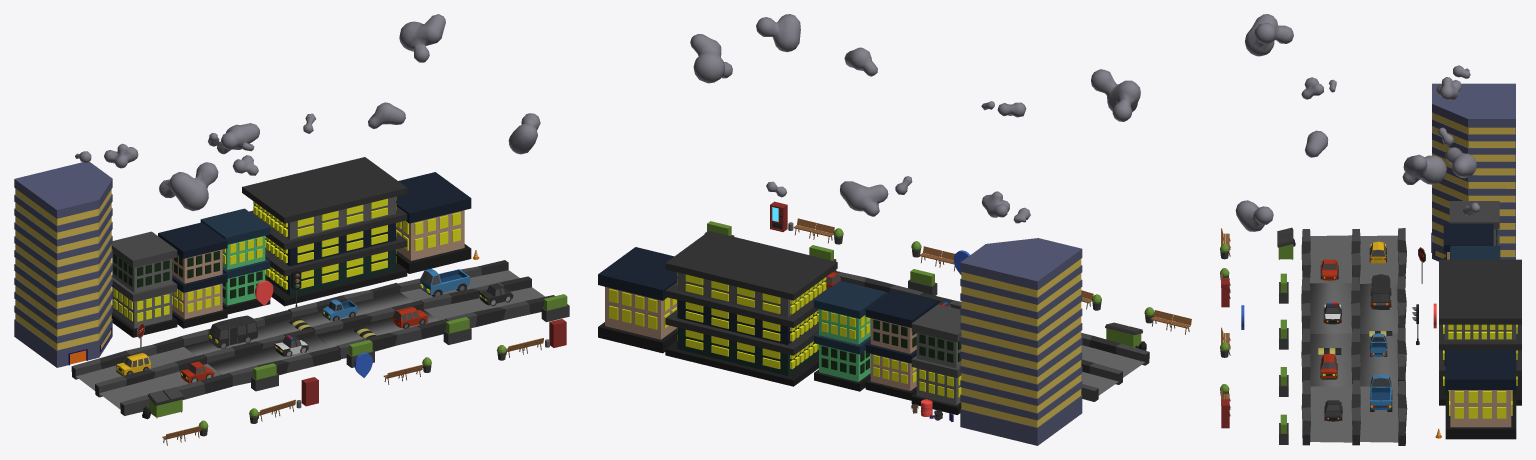
The model's file is PopupBook_Ch02_Objects.fbx.
3 renders of one model, left to right at view 1: azimuth 30°, elevation 25°; view 2: azimuth 150°, elevation 25°; view 3: azimuth 270°, elevation 25°, orthographic. The views are drawn at different scales.
Parts seen in each view (by area): view 1: Road_tar.003, Building 86, Building15, NUVOLE.001, Building4, Building7, Building9, Building10, Bus_Black.001, Lorry_Blue.001, Dumpster, Plant.006 (+5 smaller); view 2: Building 86, Building15, NUVOLE.001, Building4, Building10, Building9, Building7, Road_tar.003, Dumpster, Plant.004; view 3: Road_tar.003, Building 86, Building15, Building4, NUVOLE.001, Building9, Building7, Lorry_Blue.001, Building10, Bus_Black.001, Dumpster, Jeep_Red.001 (+5 smaller).
Part boxes in pixels (<box>): Road_tar.003: <box>71,260,554,415</box>; Building 86: <box>14,161,112,367</box>; Building15: <box>242,157,407,306</box>; NUVOLE.001: <box>75,14,540,210</box>; Building4: <box>396,172,471,273</box>; Building7: <box>111,231,177,337</box>; Building9: <box>158,222,227,328</box>; Building10: <box>200,208,270,314</box>; Bus_Black.001: <box>209,315,257,349</box>; Lorry_Blue.001: <box>419,268,469,296</box>; Dumpster: <box>148,387,184,418</box>; Plant.006: <box>443,317,471,344</box>; Building 86: <box>960,238,1082,445</box>; Building15: <box>665,231,837,386</box>; NUVOLE.001: <box>690,14,1140,223</box>; Building4: <box>598,247,677,353</box>; Building10: <box>814,280,886,391</box>; Building9: <box>865,290,937,400</box>; Building7: <box>911,304,961,414</box>; Road_tar.003: <box>833,270,1149,401</box>; Dumpster: <box>1105,322,1142,347</box>; Plant.004: <box>908,269,937,295</box>; Road_tar.003: <box>1301,228,1407,445</box>; Building 86: <box>1431,83,1515,261</box>; Building15: <box>1439,259,1521,405</box>; Building4: <box>1445,350,1516,439</box>; NUVOLE.001: <box>1235,14,1480,231</box>; Building9: <box>1443,223,1493,259</box>; Building7: <box>1449,201,1499,245</box>; Lorry_Blue.001: <box>1370,374,1392,411</box>; Building10: <box>1450,245,1500,259</box>; Bus_Black.001: <box>1370,274,1391,309</box>; Dumpster: <box>1277,227,1293,259</box>; Jeep_Red.001: <box>1320,353,1337,379</box>.
Size of the model in its own units: 303 by 183 by 186.
